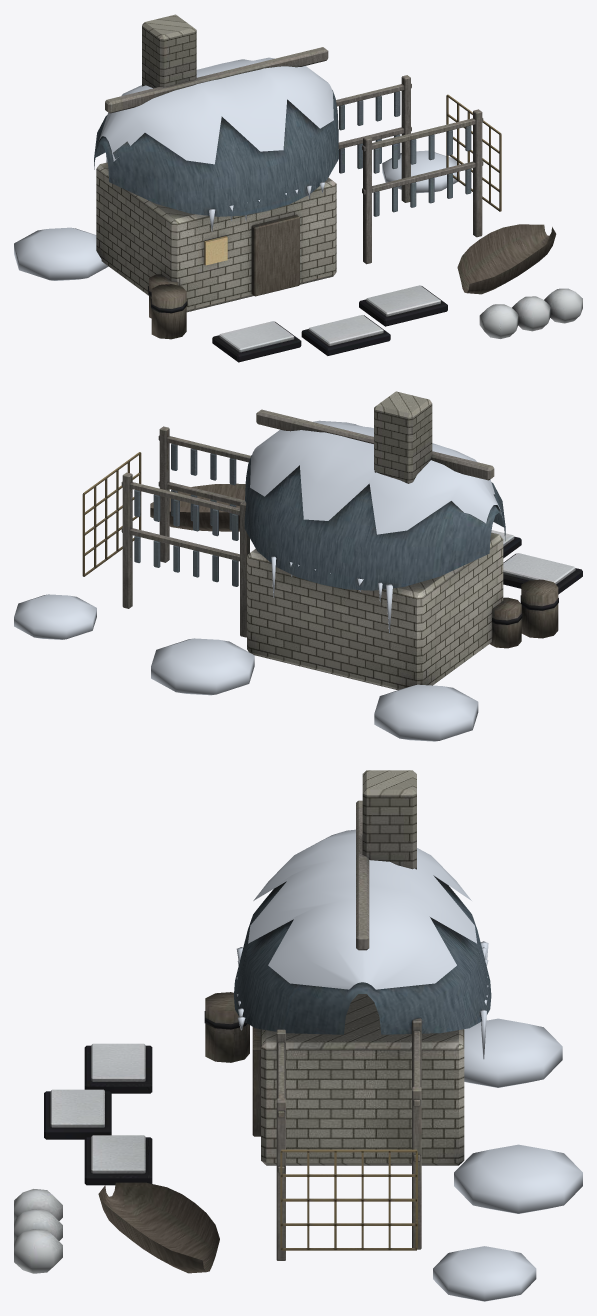
The model's file is salz_farm.glb.
3 renders of one model, top to bottom at view 1: azimuth 30°, elevation 25°; view 2: azimuth 150°, elevation 25°; view 3: azimuth 270°, elevation 25°, orthographic. The views are drawn at different scales.
Parts seen in each view (by area): view 1: salz_farm, Schnee; view 2: salz_farm, Schnee; view 3: salz_farm, Schnee.
Boxes of the visible parts, box(x1,y1,x2,y2) form: salz_farm: box(94, 14, 582, 362); Schnee: box(14, 57, 459, 280); salz_farm: box(82, 391, 582, 689); Schnee: box(14, 420, 502, 741); salz_farm: box(14, 770, 491, 1273); Schnee: box(236, 829, 582, 1301).
Bounding box in the file's own units: 4.71 × 2.73 × 4.2.
2 materials, 1 textured.
